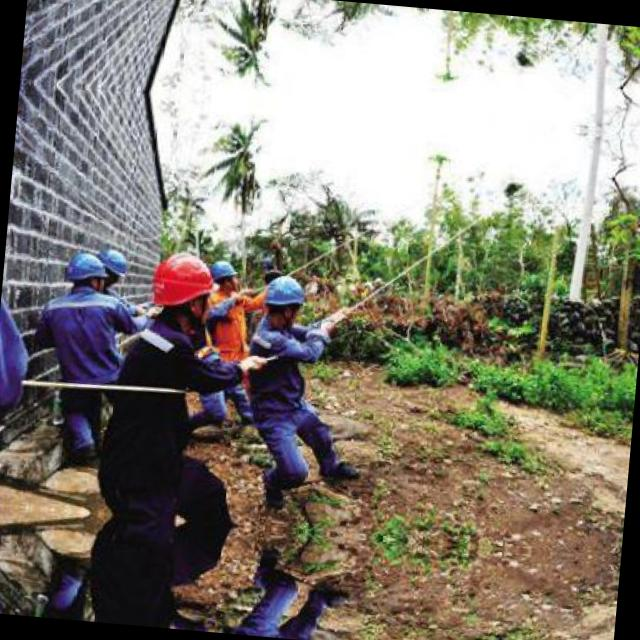helmet: (145, 244, 217, 326), (259, 270, 307, 328), (60, 248, 113, 295), (96, 240, 130, 286), (208, 252, 240, 294)
